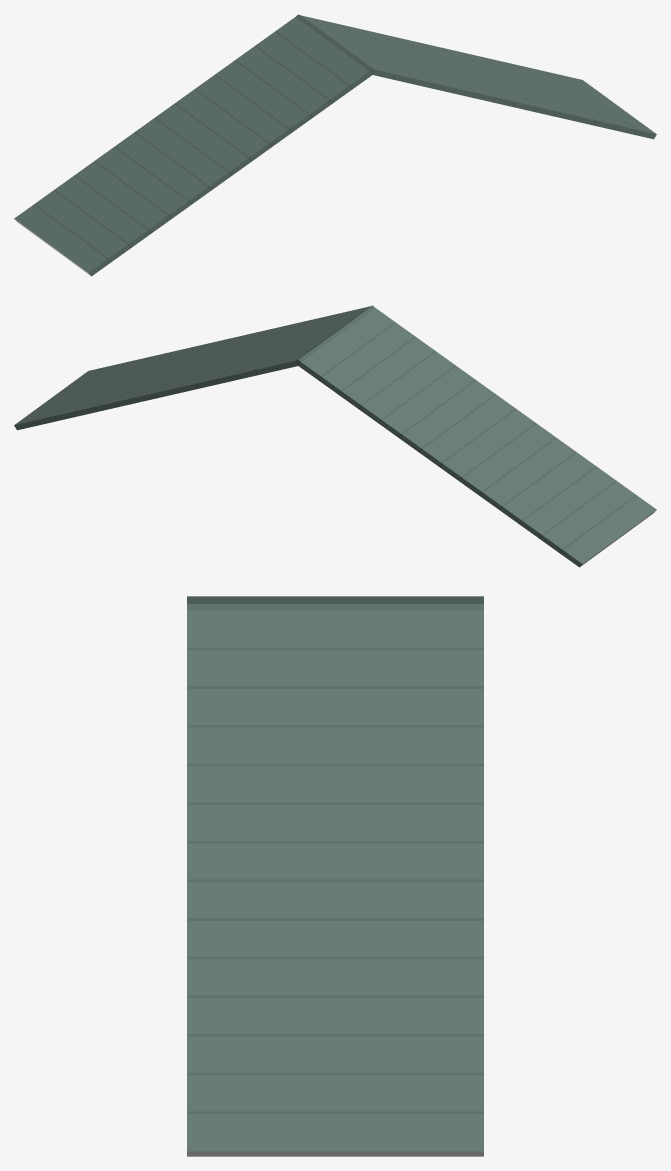
The model's file is Roof5_C6_01.fbx.
3 views of the same model, one above another, from view 1: azimuth 30°, elevation 25°; view 2: azimuth 150°, elevation 25°; view 3: azimuth 270°, elevation 25° (orthographic). The views are drawn at different scales.
Visible parts, largest first — view 1: Roof5_C6_01; view 2: Roof5_C6_01; view 3: Roof5_C6_01.
Boxes of the visible parts, bbox=[...] form: Roof5_C6_01: bbox=[14, 14, 656, 276]; Roof5_C6_01: bbox=[14, 305, 656, 567]; Roof5_C6_01: bbox=[187, 596, 483, 1156].
Bounding box in the file's own units: 1105 × 258 × 250.
